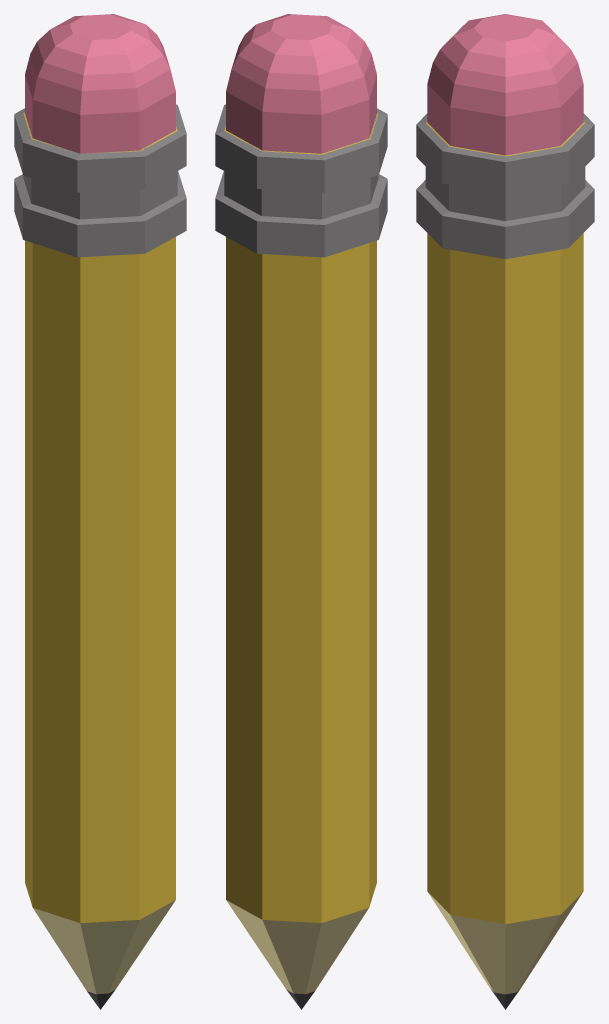
File: pen1 - Kopya.fbx
3 views of the same model, side by side, from view 1: azimuth 30°, elevation 25°; view 2: azimuth 150°, elevation 25°; view 3: azimuth 270°, elevation 25° (orthographic).
Parts seen in each view (by area): view 1: Cylinder; view 2: Cylinder; view 3: Cylinder.
Boxes of the visible parts, box(x1,y1,x2,y2) form: Cylinder: box(14, 14, 186, 1009); Cylinder: box(215, 14, 387, 1009); Cylinder: box(416, 14, 594, 1009).
Size of the model in its own units: 200 by 1214 by 200.
